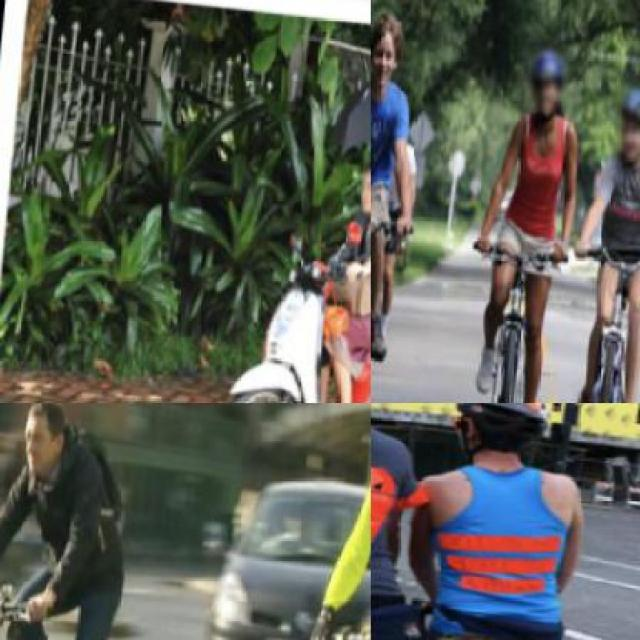With Helmet: (454, 403, 557, 455), (526, 38, 576, 112), (612, 67, 638, 162)
Without Helmet: (14, 403, 78, 483), (371, 0, 415, 88), (356, 143, 370, 228)
